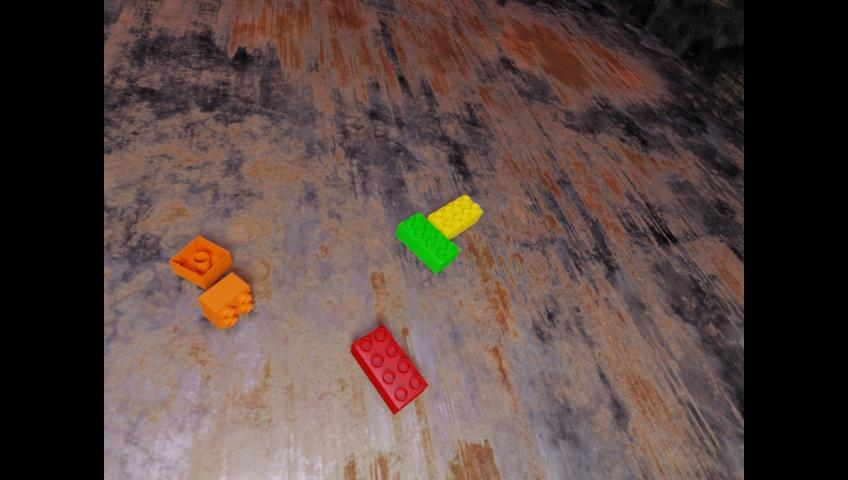2x2_orange: (170, 235, 232, 289), (197, 271, 252, 329)
4x2_green: (395, 211, 458, 273)
4x2_red: (350, 324, 427, 415)
4x2_yellow: (427, 194, 482, 239)
